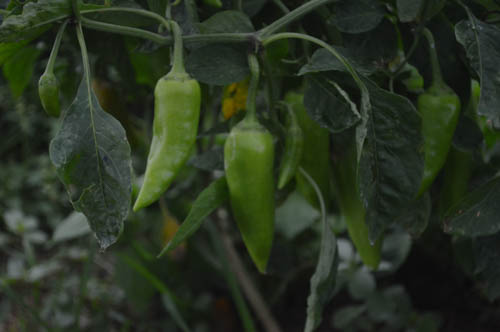ChiliPepper: (127, 69, 202, 218), (218, 121, 282, 278), (407, 84, 463, 219), (332, 142, 385, 272), (284, 88, 331, 214), (34, 72, 62, 122)
